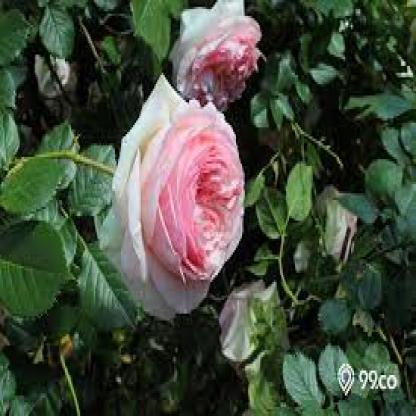Rose-Mawar: (110, 72, 240, 326)
